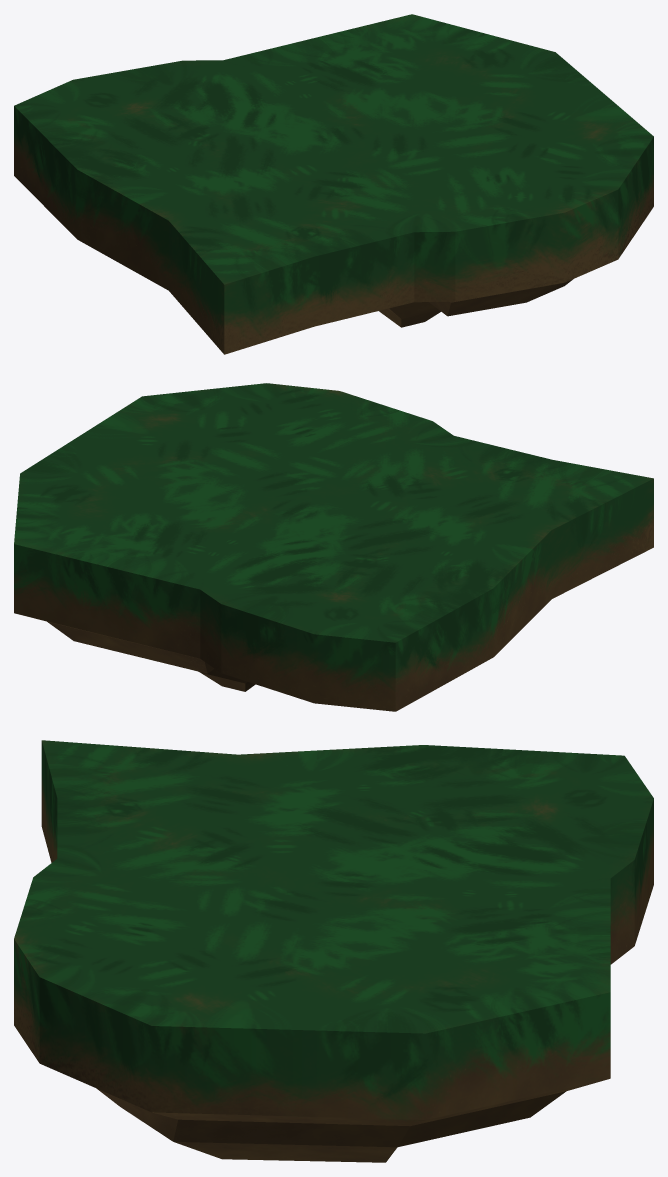
The model's file is Fantasy_Right_Forest_Platform_Unchecked_ME.fbx.
3 renders of one model, top to bottom at view 1: azimuth 30°, elevation 25°; view 2: azimuth 150°, elevation 25°; view 3: azimuth 270°, elevation 25°, orthographic. The views are drawn at different scales.
Visible parts, largest first — view 1: ForestRight; view 2: ForestRight; view 3: ForestRight.
Boxes of the visible parts, x1,y1,x2,y2 form: ForestRight: (14,14,653,354); ForestRight: (14,383,653,711); ForestRight: (14,740,653,1162).
Size of the model in its own units: 156 by 144 by 58.17.
Materials: 1 (1 with a texture image).
